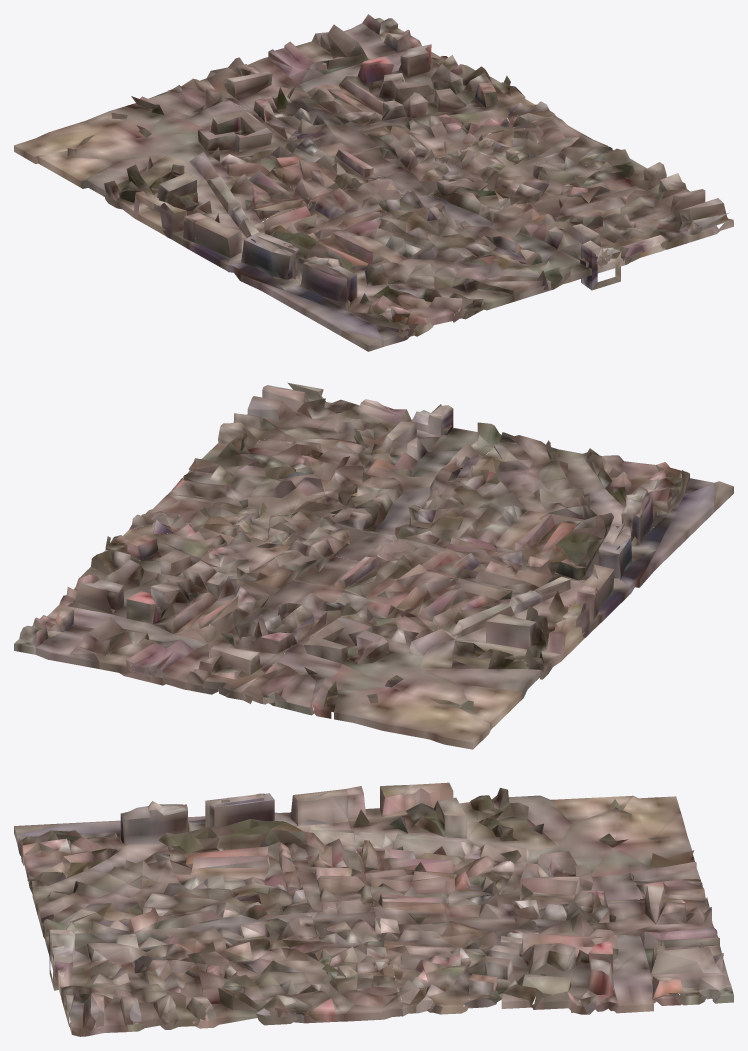
3 renders of one model, top to bottom at view 1: azimuth 30°, elevation 25°; view 2: azimuth 150°, elevation 25°; view 3: azimuth 270°, elevation 25°, orthographic. The views are drawn at different scales.
Parts seen in each view (by area): view 1: Mesh_0; view 2: Mesh_0; view 3: Mesh_0.
Part boxes in pixels (box(x1,y1,x2,y2)): Mesh_0: box(14, 14, 733, 351); Mesh_0: box(14, 382, 733, 749); Mesh_0: box(14, 782, 733, 1036).
Size of the model in its own units: 532 by 54.58 by 659.
2 materials, 2 textured.
